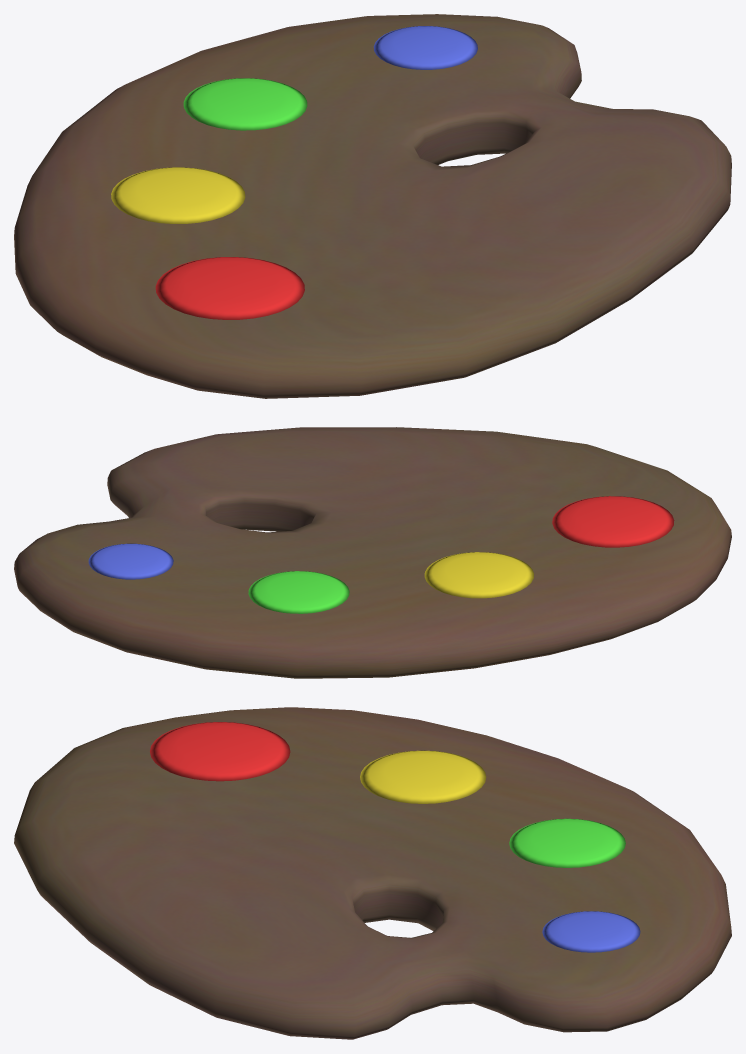
The model's file is Paleta.fbx.
3 views of the same model, one above another, from view 1: azimuth 30°, elevation 25°; view 2: azimuth 150°, elevation 25°; view 3: azimuth 270°, elevation 25° (orthographic). The views are drawn at different scales.
Parts seen in each view (by area): view 1: Paleta; view 2: Paleta; view 3: Paleta.
Boxes of the visible parts, left/top/right/bottom form: Paleta: left=14, top=14, right=731, bottom=398; Paleta: left=14, top=427, right=731, bottom=678; Paleta: left=14, top=707, right=731, bottom=1039.
Bounding box in the file's own units: 384 × 27.93 × 371.
Materials: 5 (1 with a texture image).
